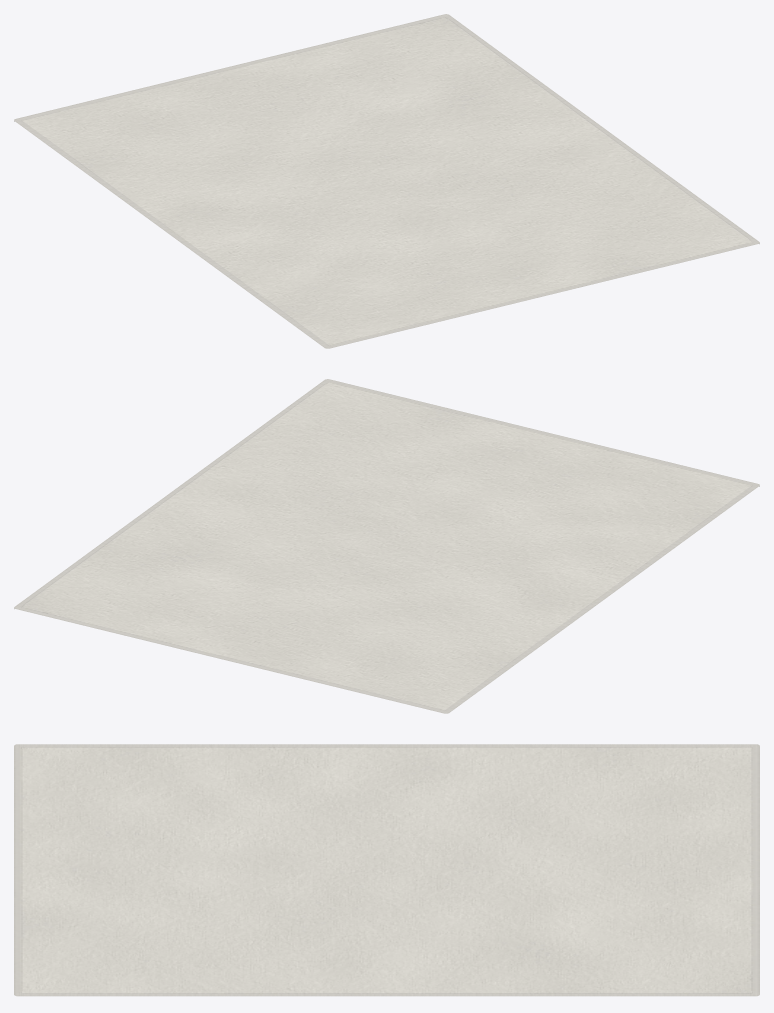
The model's file is ivory_L.glb.
3 renders of one model, top to bottom at view 1: azimuth 30°, elevation 25°; view 2: azimuth 150°, elevation 25°; view 3: azimuth 270°, elevation 25°, orthographic. The views are drawn at different scales.
Parts seen in each view (by area): view 1: reliv_ivory_L; view 2: reliv_ivory_L; view 3: reliv_ivory_L.
Boxes of the visible parts, box(x1,y1,x2,y2) form: reliv_ivory_L: box(14, 14, 759, 348); reliv_ivory_L: box(14, 379, 759, 713); reliv_ivory_L: box(14, 744, 759, 996).
Size of the model in its own units: 2 by 0.009 by 2.5.
Materials: 2 (1 with a texture image).
